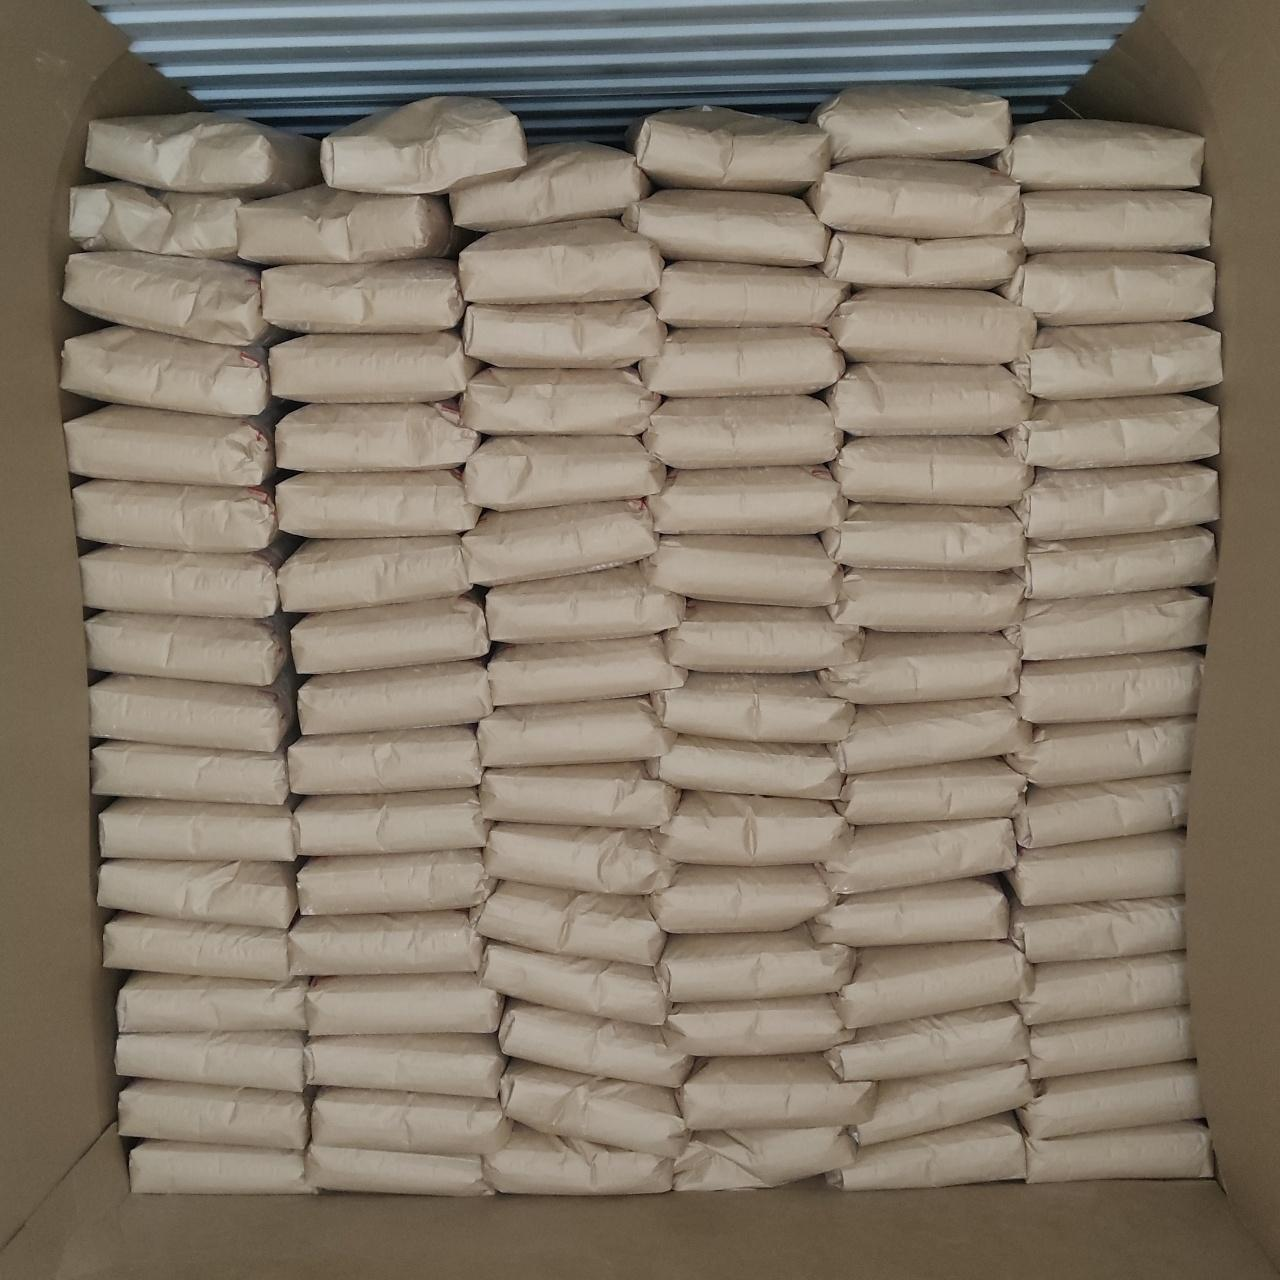sack: (86, 114, 318, 196), (322, 98, 526, 190), (64, 326, 272, 414), (66, 252, 268, 342), (500, 1060, 686, 1156), (460, 218, 662, 302), (452, 144, 648, 230), (630, 106, 828, 190), (240, 188, 460, 262), (68, 406, 276, 484), (808, 160, 1020, 236), (500, 1002, 690, 1086), (472, 882, 662, 964), (840, 942, 1030, 1024), (1010, 324, 1220, 398), (1004, 396, 1218, 468), (1000, 252, 1214, 324), (464, 502, 654, 582), (812, 84, 1010, 160), (92, 676, 294, 750), (482, 942, 668, 1022), (1014, 464, 1218, 536), (830, 290, 1034, 362), (624, 190, 828, 262), (832, 698, 1030, 772), (828, 1004, 1026, 1078), (88, 612, 288, 684), (488, 564, 682, 638), (992, 122, 1202, 190), (264, 260, 462, 332), (294, 596, 486, 670), (822, 820, 1014, 894), (76, 480, 278, 550), (658, 926, 854, 998), (466, 436, 662, 508), (826, 1116, 1022, 1188), (280, 536, 470, 610), (856, 1064, 1034, 1142), (826, 364, 1030, 432), (820, 632, 1018, 702), (680, 1054, 872, 1126), (652, 674, 854, 742), (1006, 590, 1206, 658), (278, 402, 478, 470), (272, 332, 478, 398), (656, 792, 850, 862), (644, 536, 838, 606), (72, 182, 246, 260), (1012, 650, 1200, 722), (644, 396, 842, 464), (300, 662, 492, 732), (1022, 528, 1214, 598), (464, 300, 666, 366), (666, 602, 862, 670), (642, 328, 842, 394), (82, 548, 282, 614), (832, 436, 1030, 502), (648, 466, 846, 532), (480, 698, 672, 766), (1020, 1062, 1200, 1134), (462, 368, 658, 434), (490, 636, 686, 702), (812, 878, 1006, 944), (100, 860, 294, 926), (278, 470, 478, 534), (120, 1080, 308, 1148), (486, 824, 674, 892), (290, 726, 480, 792), (650, 864, 834, 932), (652, 262, 846, 326), (300, 850, 494, 914), (106, 914, 294, 980), (822, 504, 1022, 566), (1014, 774, 1186, 846), (1008, 832, 1184, 902), (484, 1126, 670, 1192), (296, 790, 486, 854), (482, 764, 678, 826), (314, 1090, 510, 1152), (1008, 718, 1192, 784), (290, 912, 482, 974), (94, 742, 286, 804), (648, 736, 840, 798), (306, 1034, 502, 1094), (100, 800, 294, 860), (308, 974, 502, 1034), (838, 760, 1024, 822), (1018, 954, 1186, 1022), (832, 570, 1022, 630), (1020, 192, 1210, 252), (1030, 1008, 1192, 1078), (118, 972, 306, 1030), (674, 1128, 854, 1188), (118, 1032, 304, 1090), (666, 996, 852, 1054), (1026, 1124, 1212, 1182), (824, 232, 1022, 286), (1010, 898, 1182, 960), (308, 1144, 492, 1194), (132, 1140, 312, 1190)
